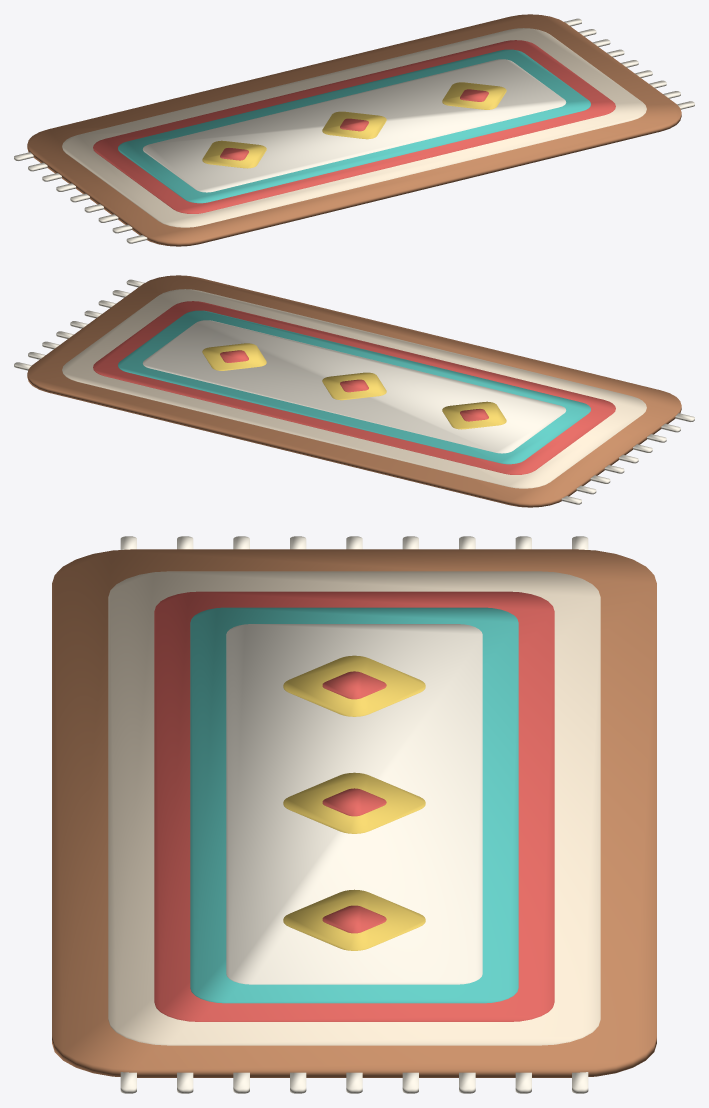
The model's file is hallway-runner-rug.glb.
3 views of the same model, one above another, from view 1: azimuth 30°, elevation 25°; view 2: azimuth 150°, elevation 25°; view 3: azimuth 270°, elevation 25° (orthographic). The views are drawn at different scales.
Parts seen in each view (by area): view 1: HallwayRunnerRug_TerracottaBorder, HallwayRunnerRug_CreamCenterAndFringe, HallwayRunnerRug_CreamField, HallwayRunnerRug_CoralStripe, HallwayRunnerRug_TurquoiseStripe, HallwayRunnerRug_ButterMedallions; view 2: HallwayRunnerRug_TerracottaBorder, HallwayRunnerRug_CreamCenterAndFringe, HallwayRunnerRug_CreamField, HallwayRunnerRug_CoralStripe, HallwayRunnerRug_TurquoiseStripe, HallwayRunnerRug_ButterMedallions; view 3: HallwayRunnerRug_TerracottaBorder, HallwayRunnerRug_CreamCenterAndFringe, HallwayRunnerRug_CreamField, HallwayRunnerRug_CoralStripe, HallwayRunnerRug_TurquoiseStripe, HallwayRunnerRug_ButterMedallions.
Part boxes in pixels (x1,y1,x2,y2): HallwayRunnerRug_TerracottaBorder: (27,14,681,246); HallwayRunnerRug_CreamCenterAndFringe: (14,18,694,243); HallwayRunnerRug_CreamField: (62,28,646,227); HallwayRunnerRug_CoralStripe: (93,40,615,213); HallwayRunnerRug_TurquoiseStripe: (118,49,590,203); HallwayRunnerRug_ButterMedallions: (202,82,506,168); HallwayRunnerRug_TerracottaBorder: (27,275,681,507); HallwayRunnerRug_CreamCenterAndFringe: (14,279,694,504); HallwayRunnerRug_CreamField: (62,289,646,488); HallwayRunnerRug_CoralStripe: (93,301,615,474); HallwayRunnerRug_TurquoiseStripe: (118,310,590,464); HallwayRunnerRug_ButterMedallions: (202,343,506,429); HallwayRunnerRug_TerracottaBorder: (52,549,656,1077); HallwayRunnerRug_CreamCenterAndFringe: (120,536,588,1093); HallwayRunnerRug_CreamField: (108,571,600,1045); HallwayRunnerRug_CoralStripe: (154,591,554,1021); HallwayRunnerRug_TurquoiseStripe: (190,607,518,1003); HallwayRunnerRug_ButterMedallions: (283,655,425,950).
Size of the model in its own units: 2.55 by 0.036 by 1.18.
